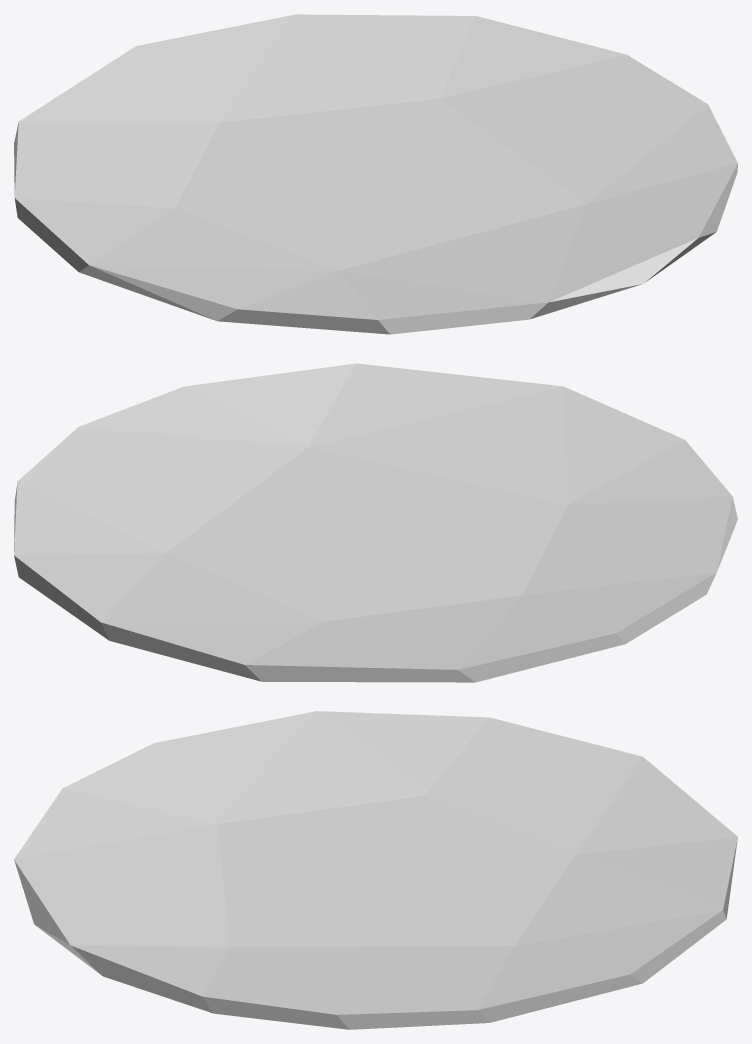
The model's file is plate.fbx.
3 views of the same model, one above another, from view 1: azimuth 30°, elevation 25°; view 2: azimuth 150°, elevation 25°; view 3: azimuth 270°, elevation 25° (orthographic).
Parts seen in each view (by area): view 1: Cylinder; view 2: Cylinder; view 3: Cylinder.
Part boxes in pixels (box(x1,y1,x2,y2)): Cylinder: box(14, 14, 737, 334); Cylinder: box(14, 363, 737, 682); Cylinder: box(14, 711, 737, 1029).
Size of the model in its own units: 365 by 29.82 by 367.
